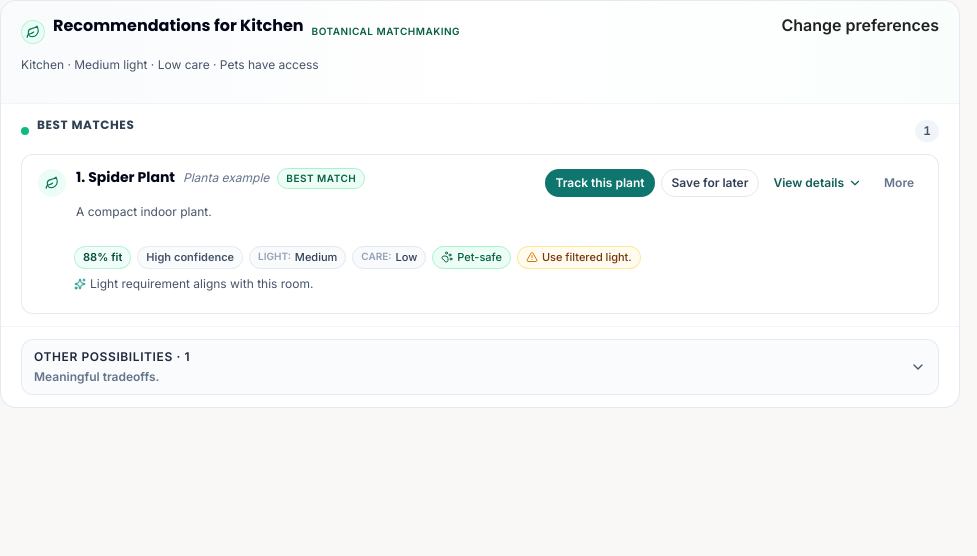
upgrades legacy stored detail strings without repeating rationale or fallback warnings
Step 1. Click the button "View details" → [818, 183], box [766,169,870,197]
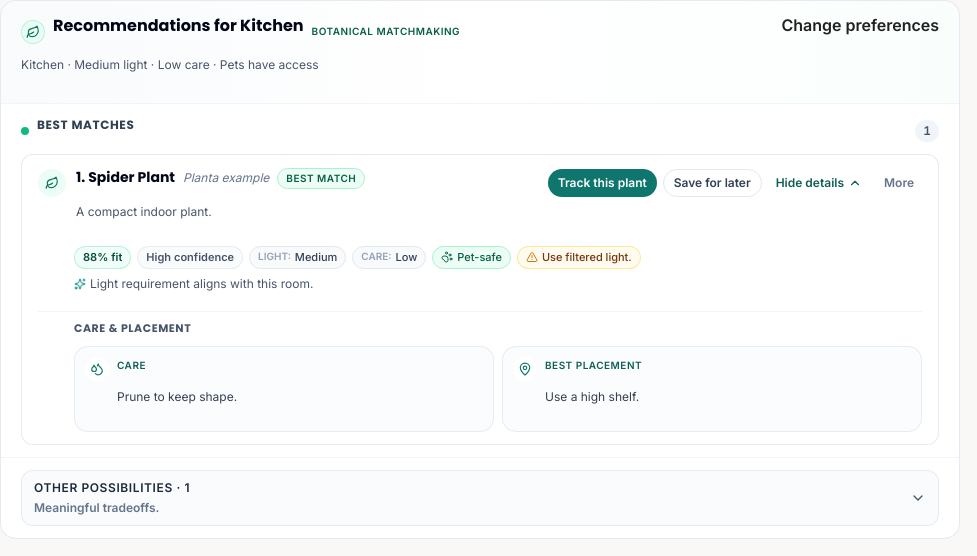
expect the text "Prune to keep shape." is shown: met, box [117,389,237,405]
expect the text "Use a high shelf." is shown: met, box [545,389,642,405]
